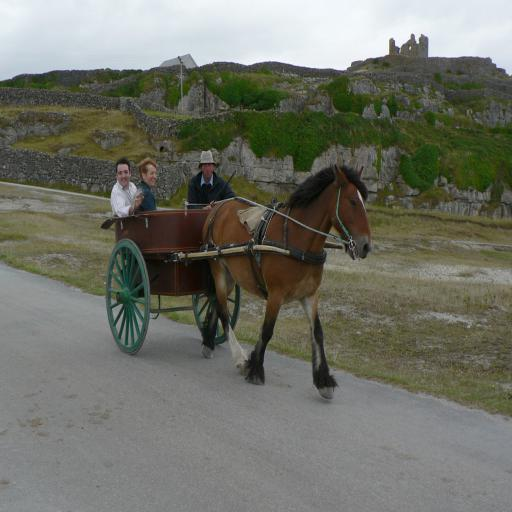horse: (202, 164, 374, 402)
